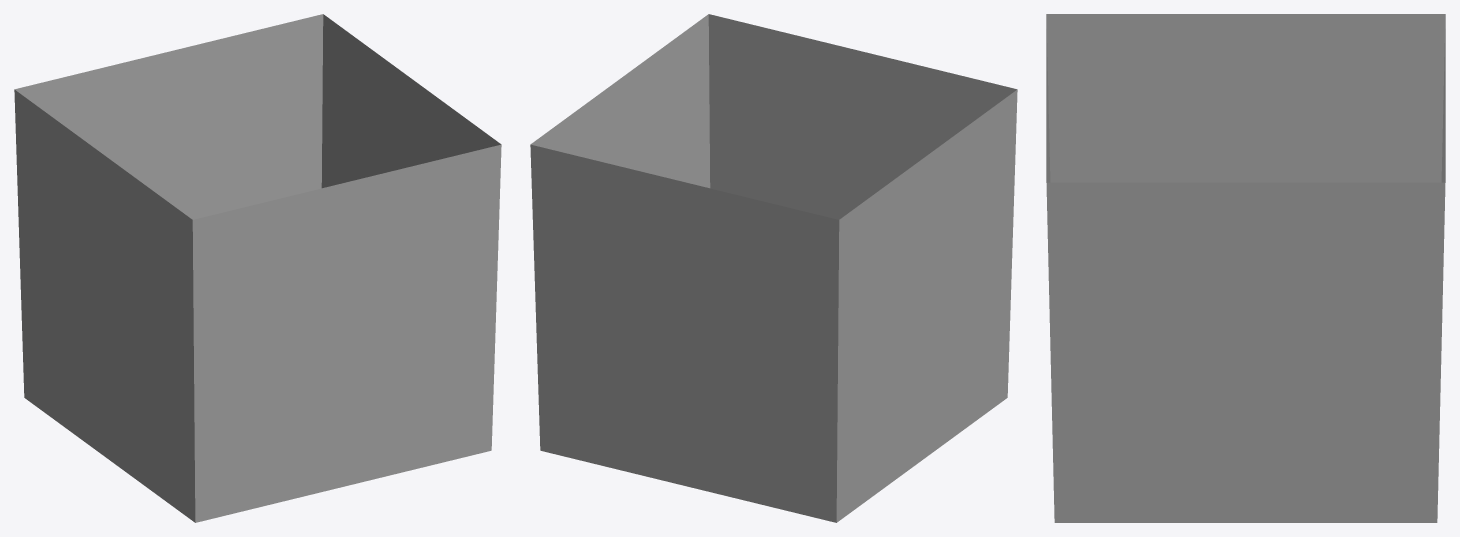
The model's file is POW_01.glb.
3 renders of one model, left to right at view 1: azimuth 30°, elevation 25°; view 2: azimuth 150°, elevation 25°; view 3: azimuth 270°, elevation 25°, orthographic. The views are drawn at different scales.
Size of the model in its own units: 0.1421 by 0.1351 by 0.1421.
1 material, 1 textured.
